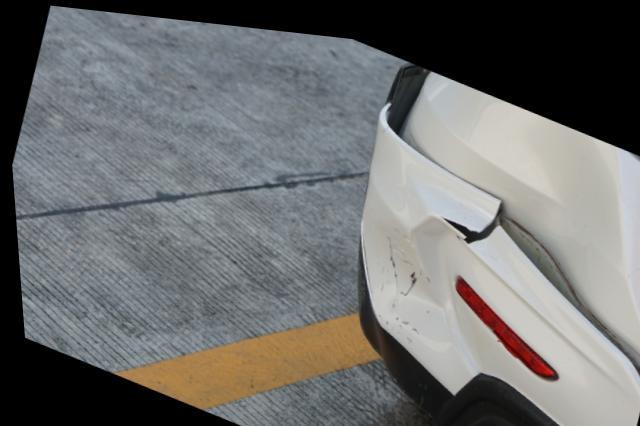crack: (438, 205, 497, 235)
dent: (499, 105, 622, 309), (360, 215, 444, 342)
